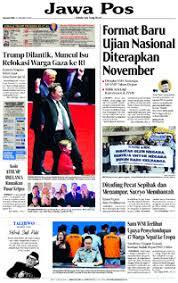Kertas: (0, 2, 178, 277)
